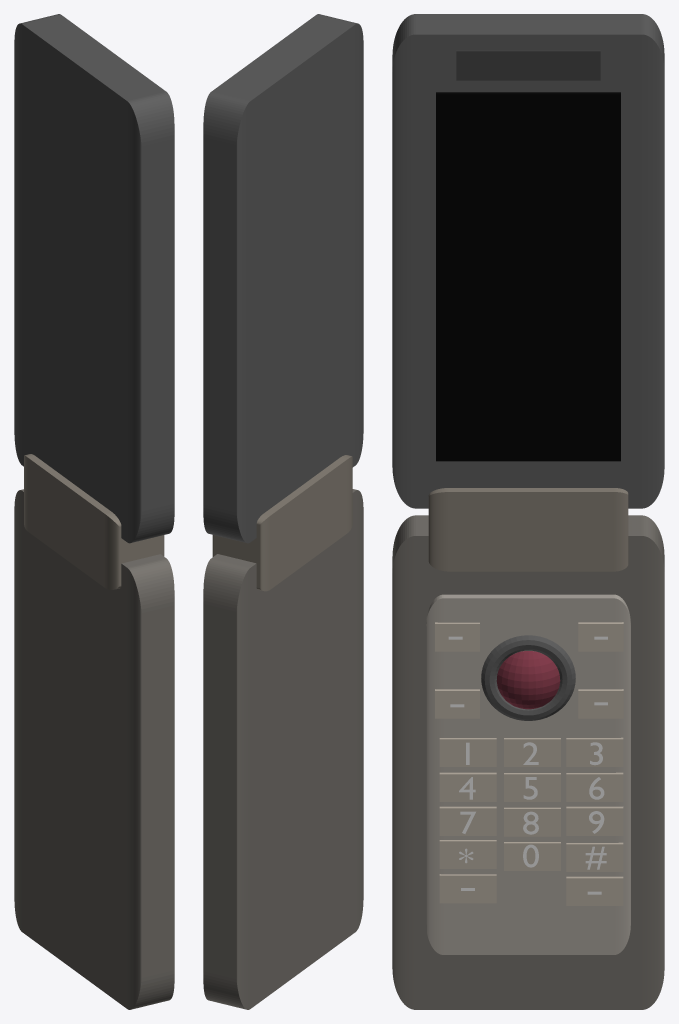
The model's file is Phone.glb.
The picture shows the model from 3 angles, left to right: view 1: azimuth 30°, elevation 25°; view 2: azimuth 150°, elevation 25°; view 3: azimuth 270°, elevation 25°; orthographic projection. The views are drawn at different scales.
Parts seen in each view (by area): view 1: Cube.001, Cube, Cube.002; view 2: Cube.001, Cube, Cube.002; view 3: Cube.003, Cube.001, Cube, Cube.005, Cube.002, Cube.004, Torus, Sphere, Cube.019, Cube.018, Cube.010, Cube.015 (+14 smaller).
Part boxes in pixels (x1=…): Cube.001: x1=14, y1=14, x2=174, y2=543; Cube: x1=14, y1=489, x2=174, y2=1009; Cube.002: x1=24, y1=454, x2=164, y2=589; Cube.001: x1=203, y1=14, x2=363, y2=543; Cube: x1=203, y1=489, x2=363, y2=1009; Cube.002: x1=212, y1=455, x2=352, y2=591; Cube.003: x1=436, y1=92, x2=620, y2=461; Cube.001: x1=392, y1=14, x2=664, y2=508; Cube: x1=392, y1=515, x2=664, y2=1009; Cube.005: x1=426, y1=594, x2=630, y2=954; Cube.002: x1=428, y1=488, x2=628, y2=571; Cube.004: x1=456, y1=50, x2=600, y2=80; Torus: x1=481, y1=635, x2=575, y2=720; Sphere: x1=496, y1=651, x2=560, y2=709; Cube.019: x1=566, y1=876, x2=623, y2=905; Cube.018: x1=439, y1=874, x2=496, y2=903; Cube.010: x1=439, y1=806, x2=496, y2=835; Cube.015: x1=439, y1=840, x2=496, y2=868.
Bounding box in the file's own units: 0.1559 × 1.97 × 0.498.
